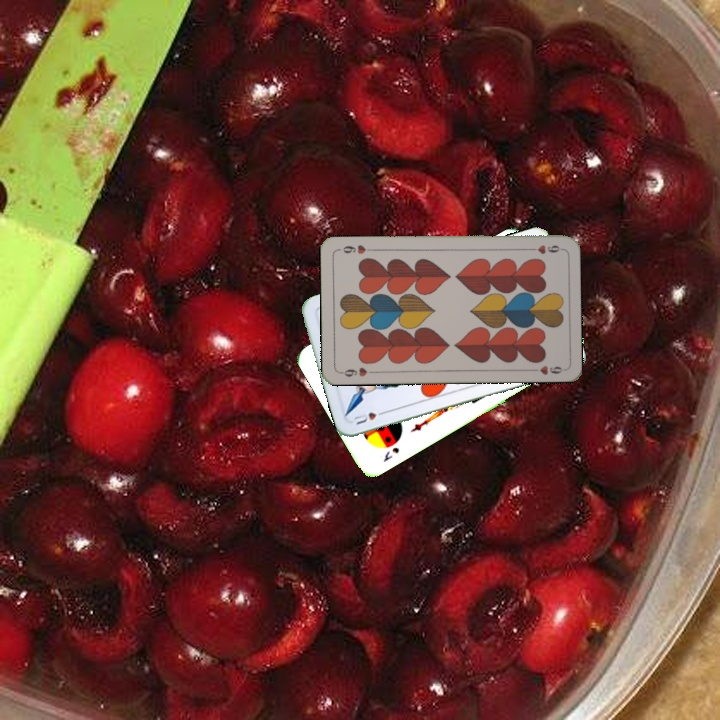H9: (337, 363, 377, 379), (524, 241, 564, 257)
HU: (349, 407, 389, 427)
SK: (379, 443, 402, 465)
